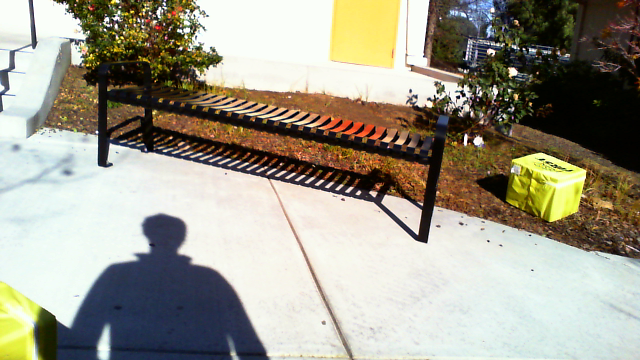cube: (506, 151, 588, 222)
